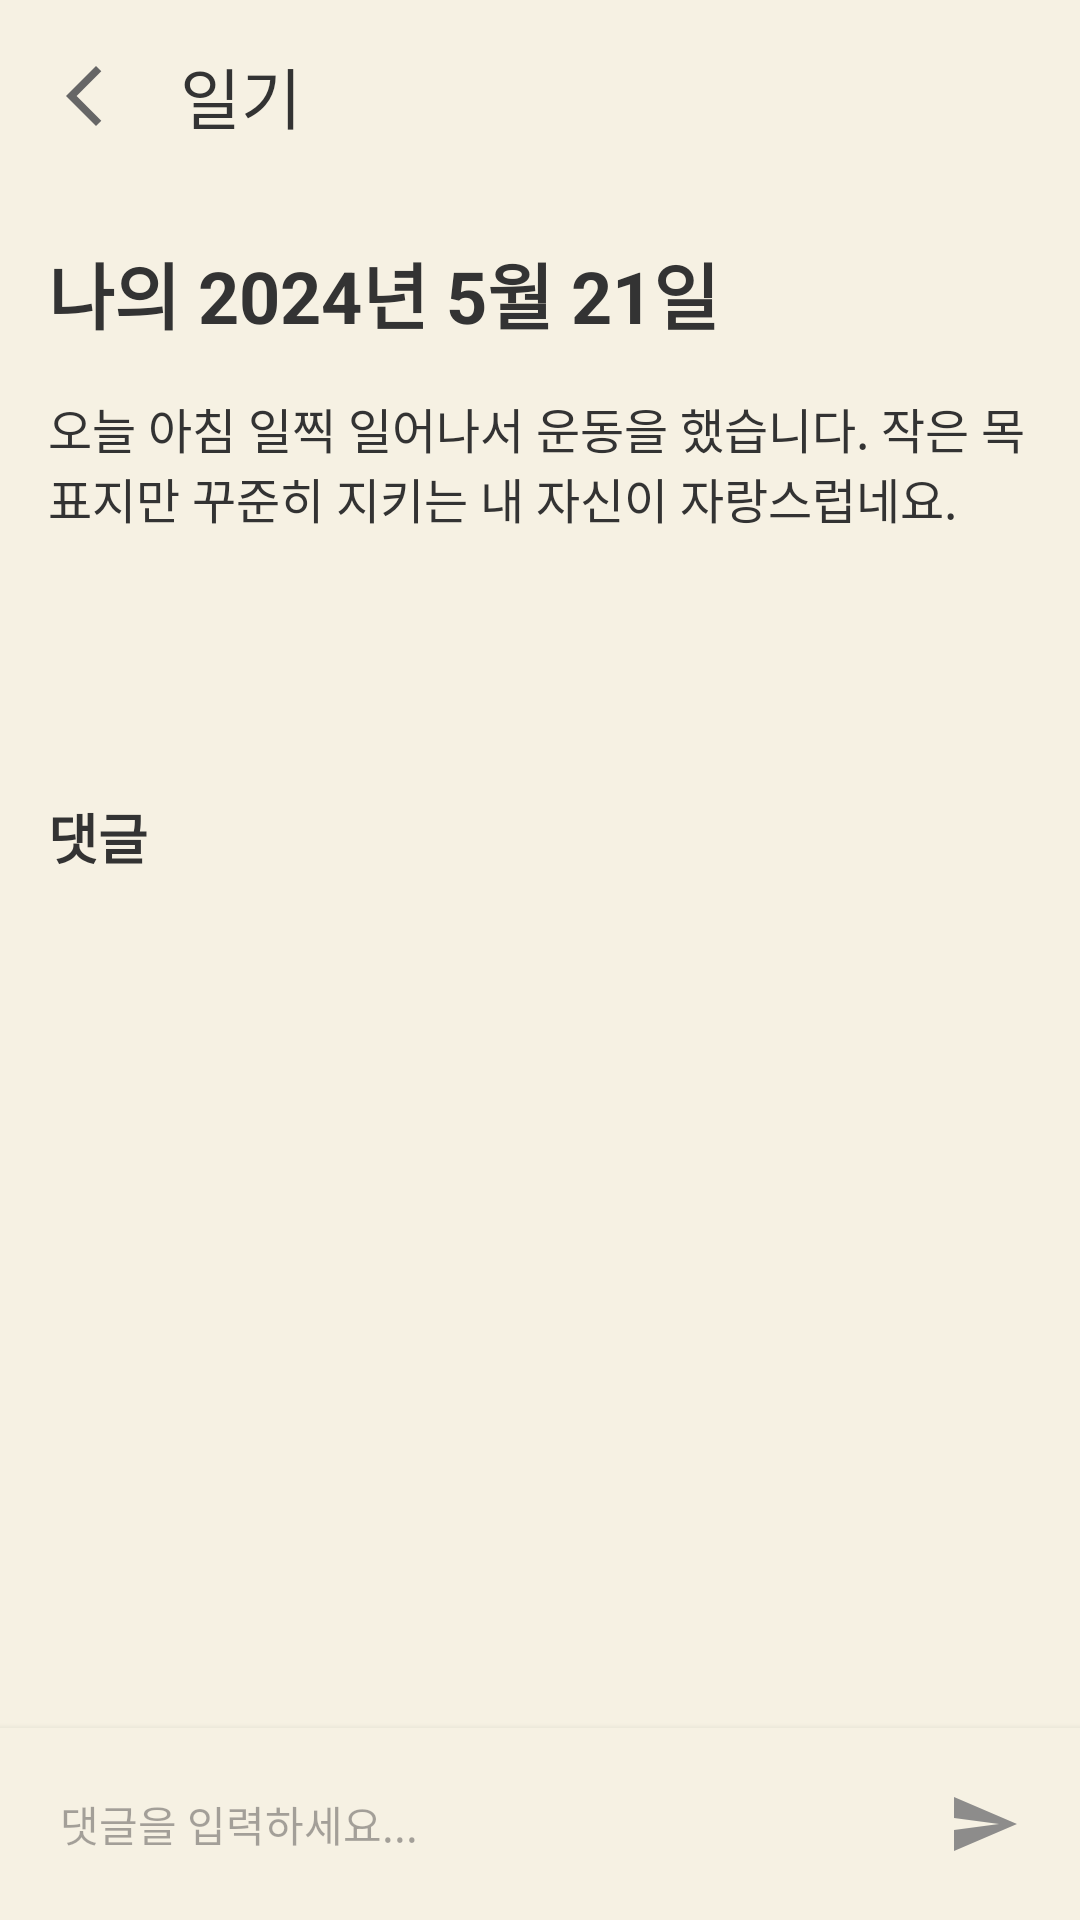

Point at icon controls on the screen. Image size 1080*1920, points as [x,y].
댓글 작성: [985,1824]
